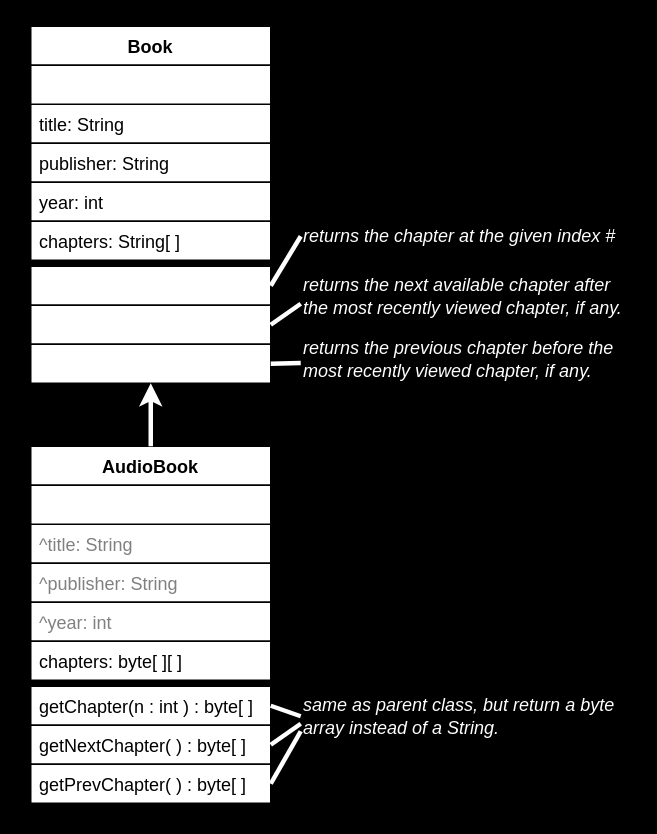
Image size: 657x834. Some labels were removed from this diagram. The centre of each missing label's shape, as x and y in pixels:
"^author: String" belongs at [150,504].
"author: String" belongs at [150,84].
"getChapter(n : int ) : String" belongs at [150,285].
"getNextChapter( ) : String" belongs at [150,324].
"getPrevChapter( ) : String" belongs at [150,363].
